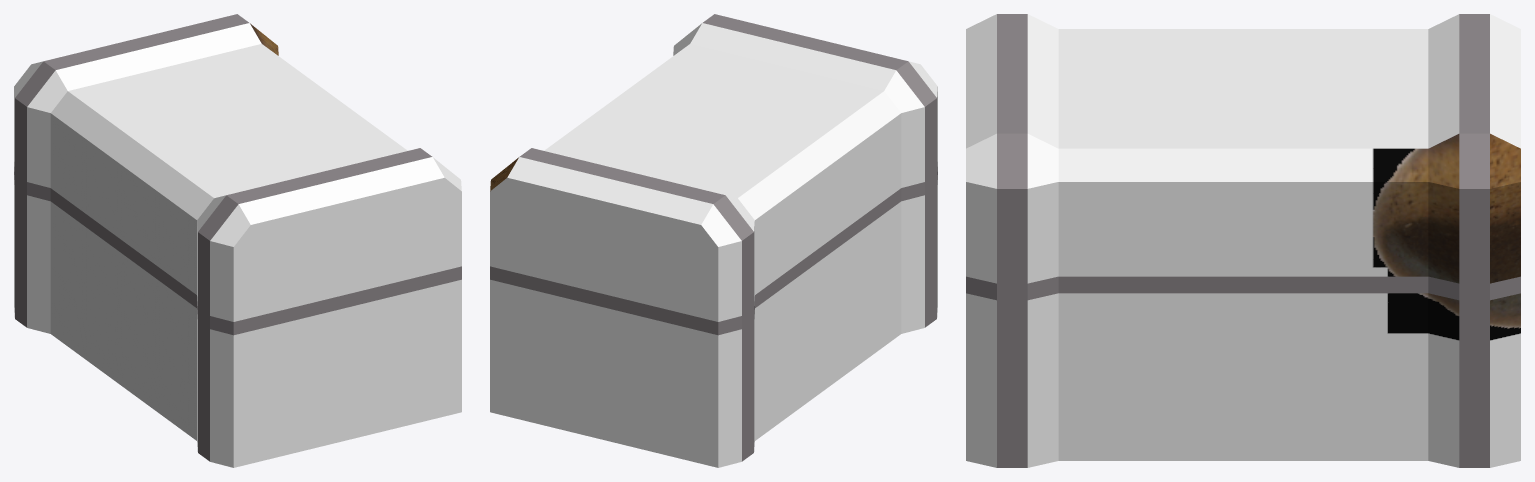
File: ammobox.fbx
3 renders of one model, left to right at view 1: azimuth 30°, elevation 25°; view 2: azimuth 150°, elevation 25°; view 3: azimuth 270°, elevation 25°, orthographic. The views are drawn at different scales.
Parts seen in each view (by area): view 1: Cube; view 2: Cube; view 3: Cube.
Boxes of the visible parts, bbox=[...] form: Cube: bbox=[14, 14, 461, 467]; Cube: bbox=[490, 14, 937, 467]; Cube: bbox=[966, 14, 1520, 467].
Size of the model in its own units: 16.5 by 15.75 by 25.
2 materials, 1 textured.
